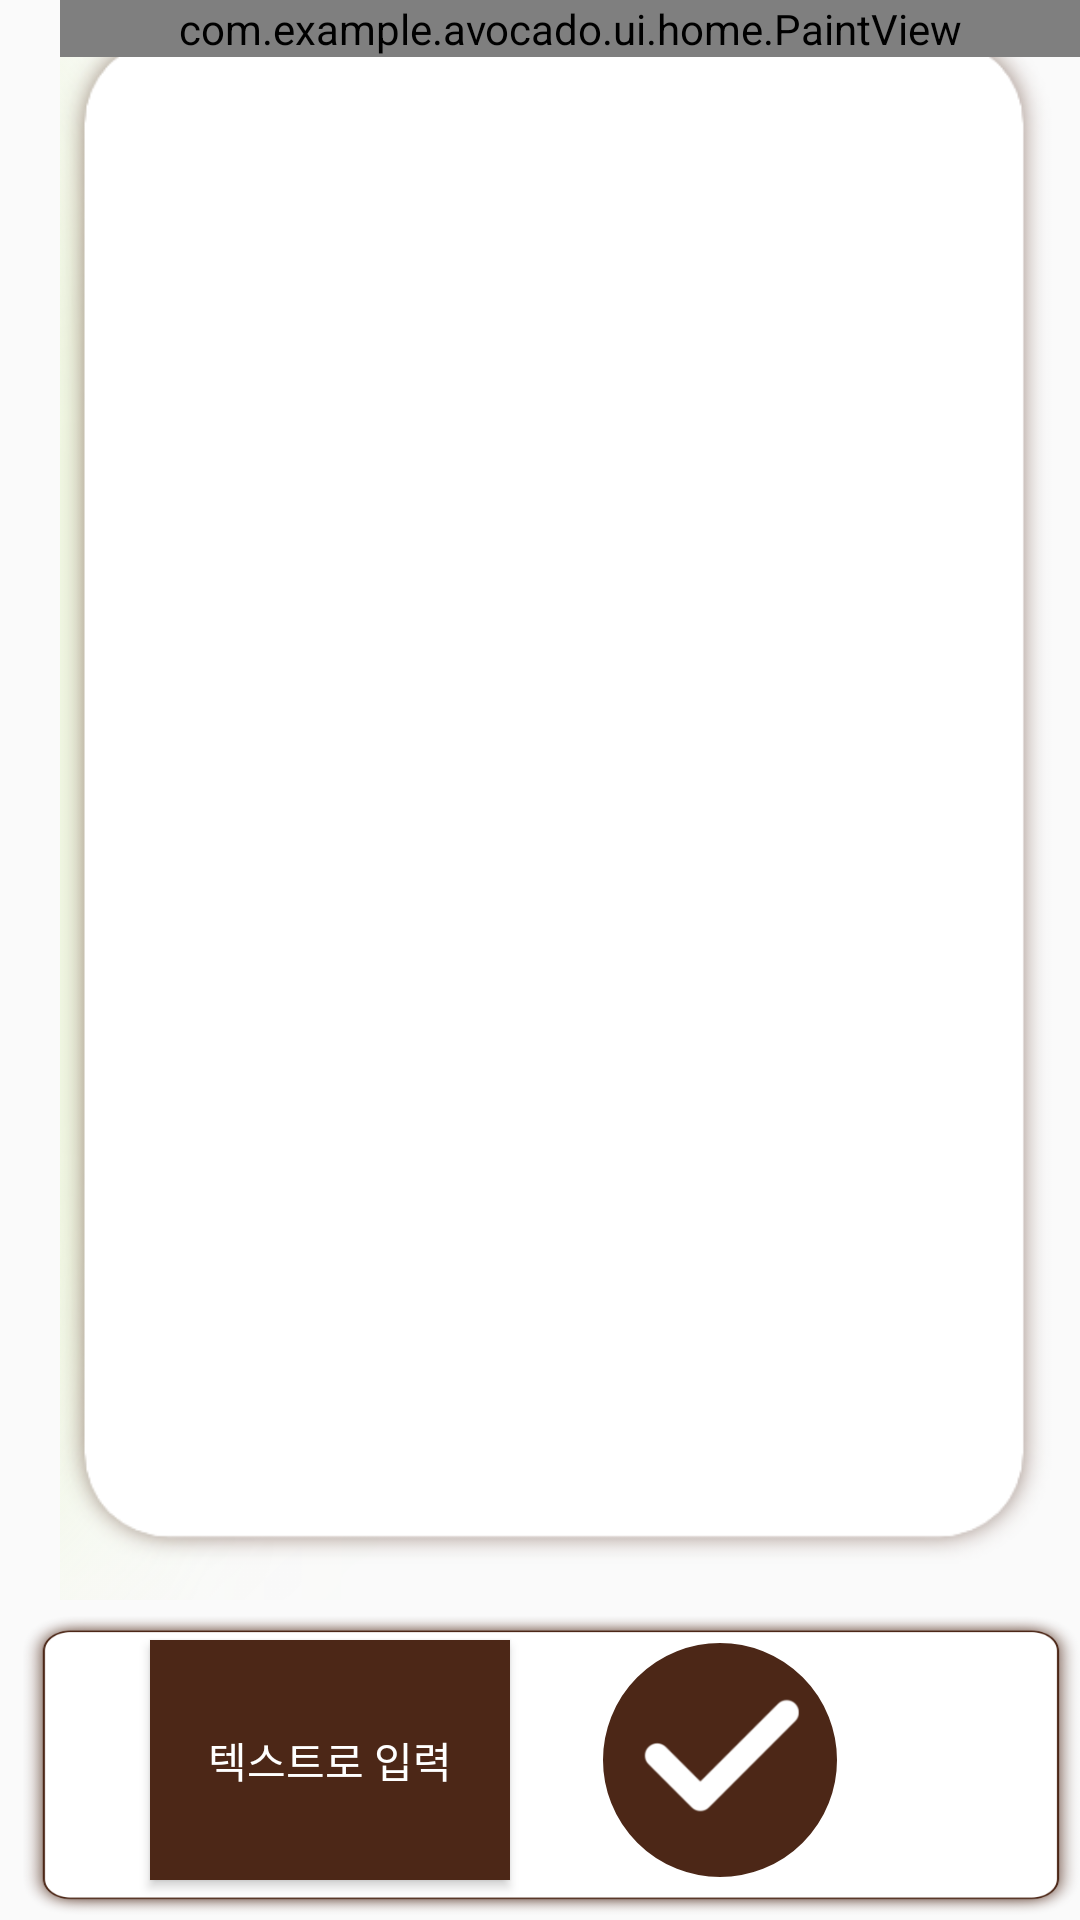

Screen size 1080w x 1920h. Icon name, then its box in pixels as (x1, y1, x2, y2):
check: (603, 1643, 837, 1877)
